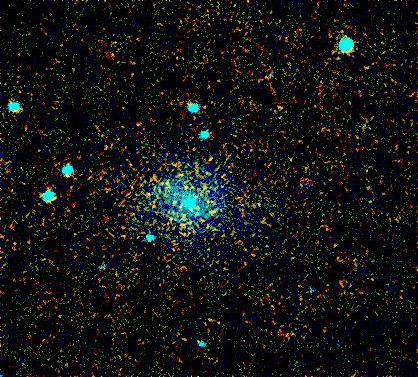star: (181, 204, 211, 234)
